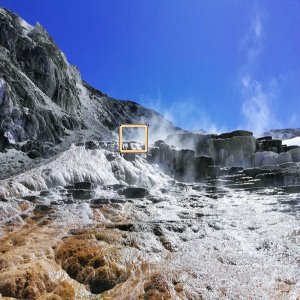square: (117, 122, 149, 154)
